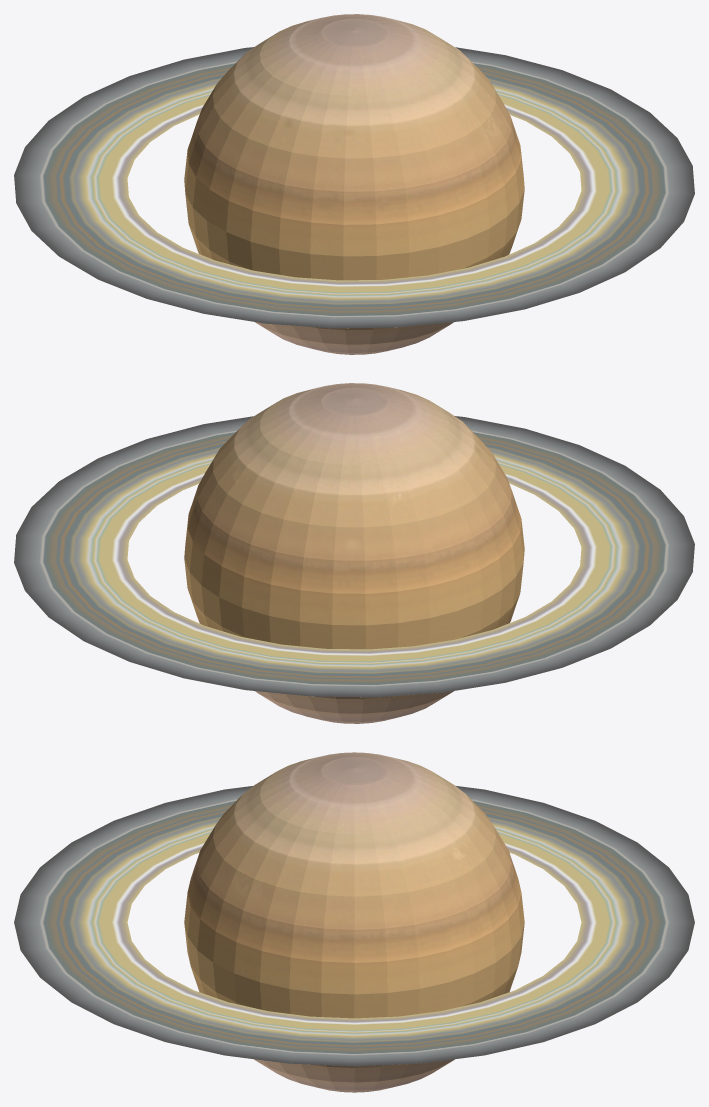
The model's file is Saturn.obj.
3 views of the same model, one above another, from view 1: azimuth 30°, elevation 25°; view 2: azimuth 150°, elevation 25°; view 3: azimuth 270°, elevation 25° (orthographic).
Visible parts, largest first — view 1: Sphere; view 2: Sphere; view 3: Sphere.
Part boxes in pixels (<box>): Sphere: <box>14,14,694,354</box>; Sphere: <box>14,383,694,723</box>; Sphere: <box>14,752,694,1092</box>.
Size of the model in its own units: 4 by 2 by 4.
Materials: 2 (2 with a texture image).
